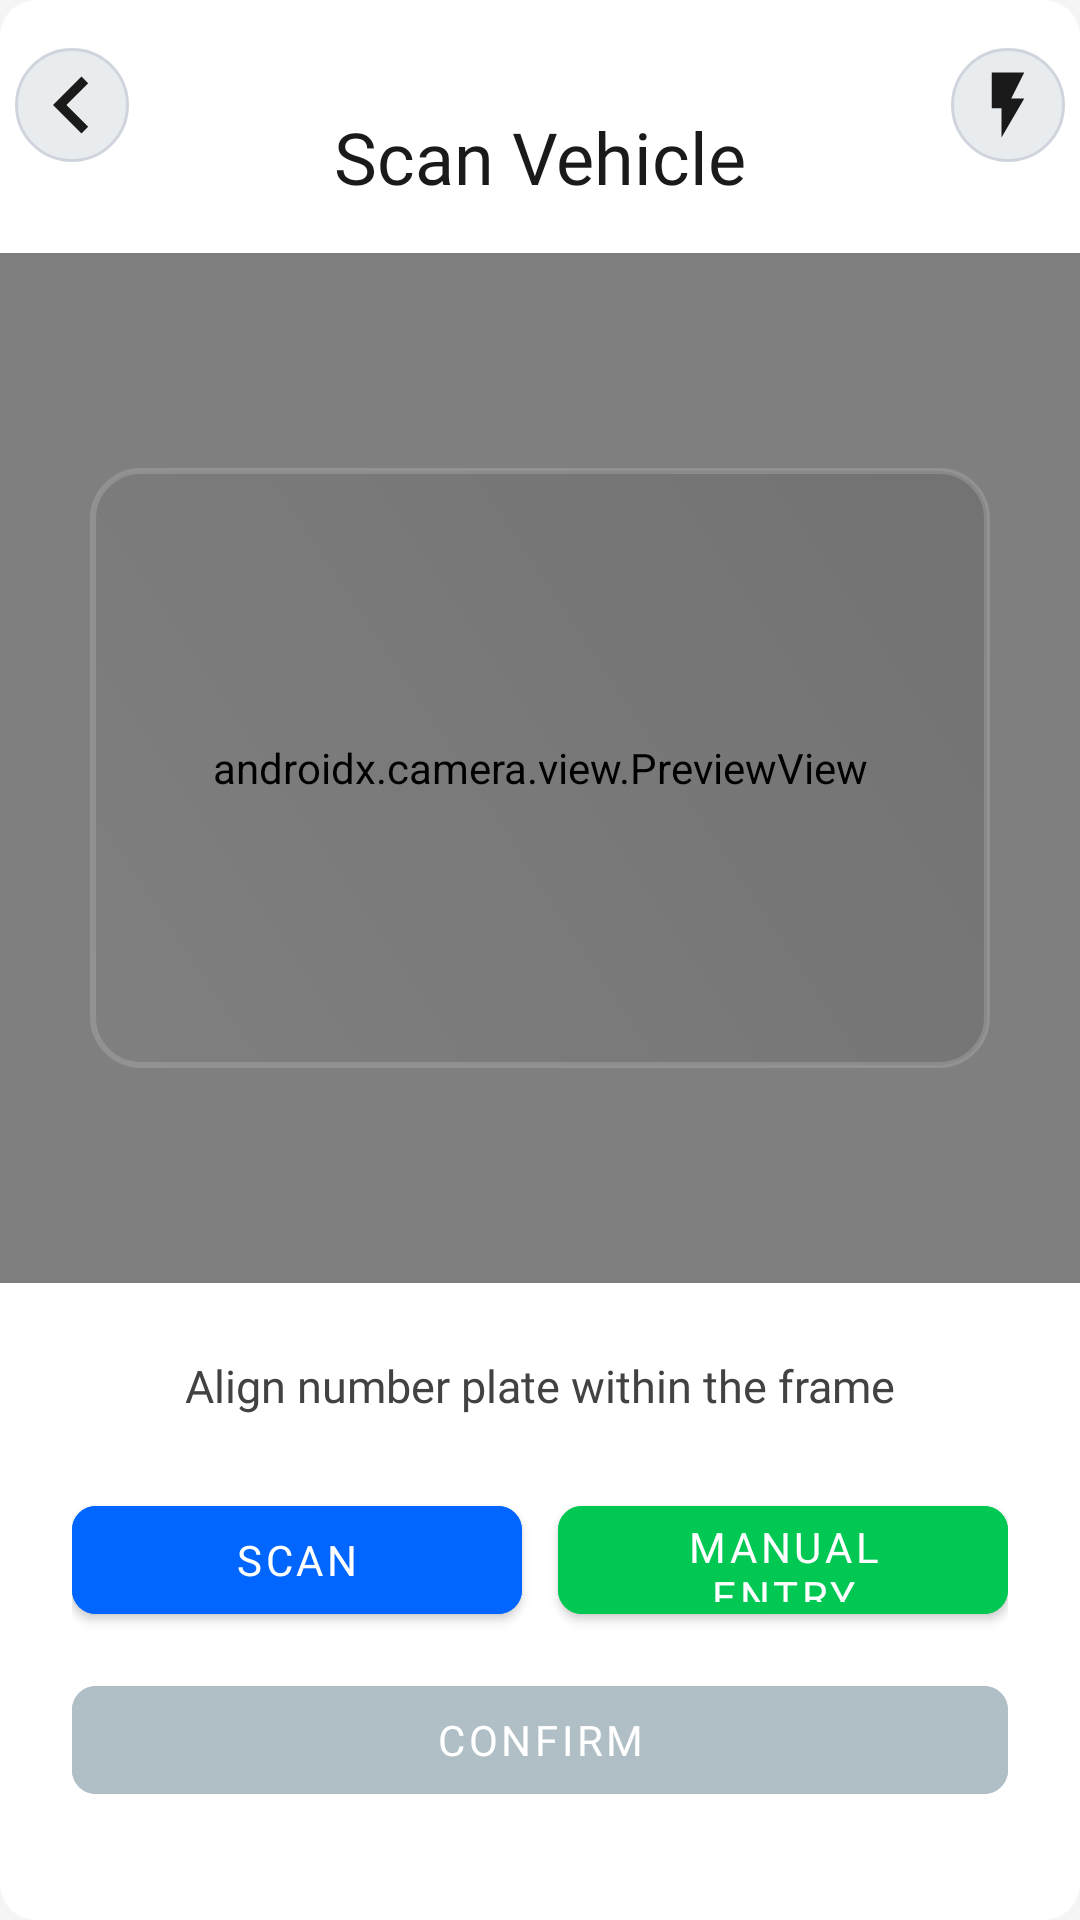

Point at icon controls on the screen. Image size 1080 x 1920, points as point (x, y).
Back: point (72, 105)
Toggle Flash: point (1008, 105)
